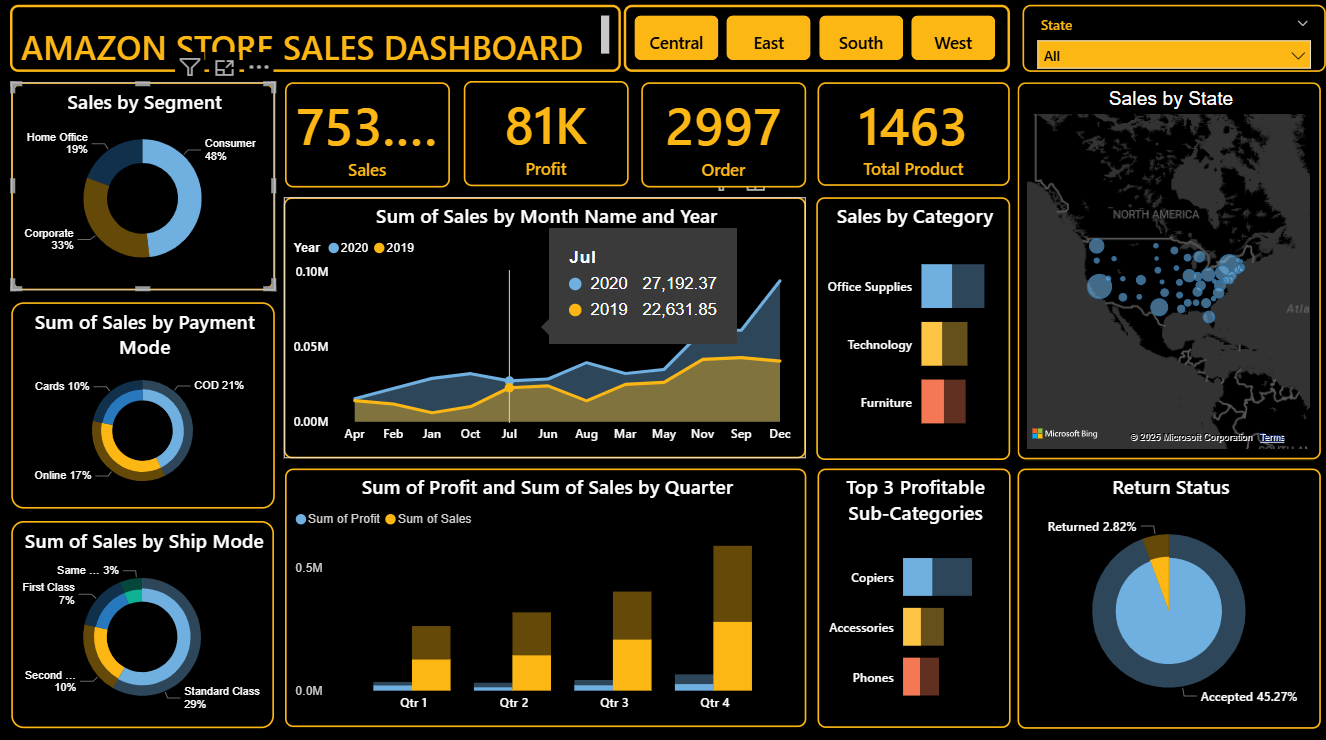

The dashboard page shown, as its layout file describes it:
{"tool":"powerbi","page":{"name":"Page 1","canvas":[1280,720],"ordinal":0},"visuals":[{"type":"donutChart","title":"Sales by Segment","fields":{"Y":["Sum(Amazon Store Sales Data.Sales)"],"Category":["Amazon Store Sales Data.Segment"]},"box":[10.8,82.9,254.6,200.5],"z":0},{"type":"donutChart","fields":{"Y":["Sum(Amazon Store Sales Data.Sales)"],"Category":["Amazon Store Sales Data.Payment Mode"]},"box":[10.8,295.4,254.6,199.3],"z":1000},{"type":"donutChart","fields":{"Y":["Sum(Amazon Store Sales Data.Sales)"],"Category":["Amazon Store Sales Data.Ship Mode"]},"box":[11.2,506.2,253.8,200],"z":2000},{"type":"textbox","box":[9.7,8.4,589.9,65.1],"z":3000},{"type":"areaChart","fields":{"Y":["Sum(Amazon Store Sales Data.Sales)"],"Category":["Amazon Store Sales Data.Month Name"],"Series":["Amazon Store Sales Data.Year"]},"box":[273.9,194.2,504.3,252.1],"z":4000},{"type":"clusteredColumnChart","fields":{"Y":["Sum(Amazon Store Sales Data.Profit)","Sum(Amazon Store Sales Data.Sales)"],"Category":["Amazon Store Sales Data.Order Date.Variation.Date Hierarchy.Quarter"]},"box":[275.1,456,503.1,249.7],"z":5000},{"type":"advancedSlicerVisual","fields":{"Values":["Amazon Store Sales Data.Region"]},"box":[602,8.4,372.8,65.1],"z":6000},{"type":"clusteredBarChart","title":"Sales by Category","fields":{"Category":["Amazon Store Sales Data.Category"],"Y":["Sum(Amazon Store Sales Data.Sales)"]},"box":[788.2,193.6,187.4,253.2],"z":7000},{"type":"clusteredBarChart","title":"Top 3 Profitable Sub-Categories","fields":{"Category":["Amazon Store Sales Data.Sub-Category"],"Y":["Sum(Amazon Store Sales Data.Profit)"]},"box":[789.5,455.6,186.2,250.7],"z":8000},{"type":"card","fields":{"Values":["Sum(Amazon Store Sales Data.Sales)"]},"box":[275.1,83.2,159.3,101.3],"z":9000},{"type":"card","fields":{"Values":["Sum(Amazon Store Sales Data.Profit)"]},"box":[447.6,82,159.3,101.3],"z":10000},{"type":"card","fields":{"Values":["CountNonNull(Amazon Store Sales Data.Order ID)"]},"box":[618.9,83.2,159.3,101.3],"z":11000},{"type":"card","fields":{"Values":["Count(Amazon Store Sales Data.Product ID)"]},"box":[789,83.2,185.8,100.1],"z":12000},{"type":"map","title":"Sales by State","fields":{"Size":["Sum(Amazon Store Sales Data.Sales)"],"Category":["Amazon Store Sales Data.State"]},"box":[982,83.2,293.2,364.3],"z":13000},{"type":"slicer","fields":{"Values":["Amazon Store Sales Data.State"]},"box":[986.9,8.4,293.2,65.1],"z":13001},{"type":"pieChart","title":"Return Status","fields":{"Category":["Amazon Store Sales Data.Order Status"],"Y":["Sum(Amazon Store Sales Data.Sales)"]},"box":[982,456,293,251],"z":13002}]}

Visuals, with their boxes in screenshot pixels (x1, y1, x2, y2), scaled from the page's 1280x720 canvas onto the 1326x740 screenshot:
"Sales by Segment" donutChart: <bbox>11, 85, 275, 291</bbox>
donutChart - Sum(Amazon Store Sales Data.Sales) x Amazon Store Sales Data.Payment Mode: <bbox>11, 304, 275, 508</bbox>
donutChart - Sum(Amazon Store Sales Data.Sales) x Amazon Store Sales Data.Ship Mode: <bbox>12, 520, 275, 726</bbox>
textbox: <bbox>10, 9, 621, 76</bbox>
areaChart - Sum(Amazon Store Sales Data.Sales) x Amazon Store Sales Data.Month Name: <bbox>284, 200, 806, 459</bbox>
clusteredColumnChart - Sum(Amazon Store Sales Data.Profit) x Sum(Amazon Store Sales Data.Sales): <bbox>285, 469, 806, 725</bbox>
advancedSlicerVisual - Amazon Store Sales Data.Region: <bbox>624, 9, 1010, 76</bbox>
"Sales by Category" clusteredBarChart: <bbox>817, 199, 1011, 459</bbox>
"Top 3 Profitable Sub-Categories" clusteredBarChart: <bbox>818, 468, 1011, 726</bbox>
card - Sum(Amazon Store Sales Data.Sales): <bbox>285, 86, 450, 190</bbox>
card - Sum(Amazon Store Sales Data.Profit): <bbox>464, 84, 629, 188</bbox>
card - CountNonNull(Amazon Store Sales Data.Order ID): <bbox>641, 86, 806, 190</bbox>
card - Count(Amazon Store Sales Data.Product ID): <bbox>817, 86, 1010, 188</bbox>
"Sales by State" map: <bbox>1017, 86, 1321, 460</bbox>
slicer - Amazon Store Sales Data.State: <bbox>1022, 9, 1325, 76</bbox>
"Return Status" pieChart: <bbox>1017, 469, 1321, 727</bbox>
